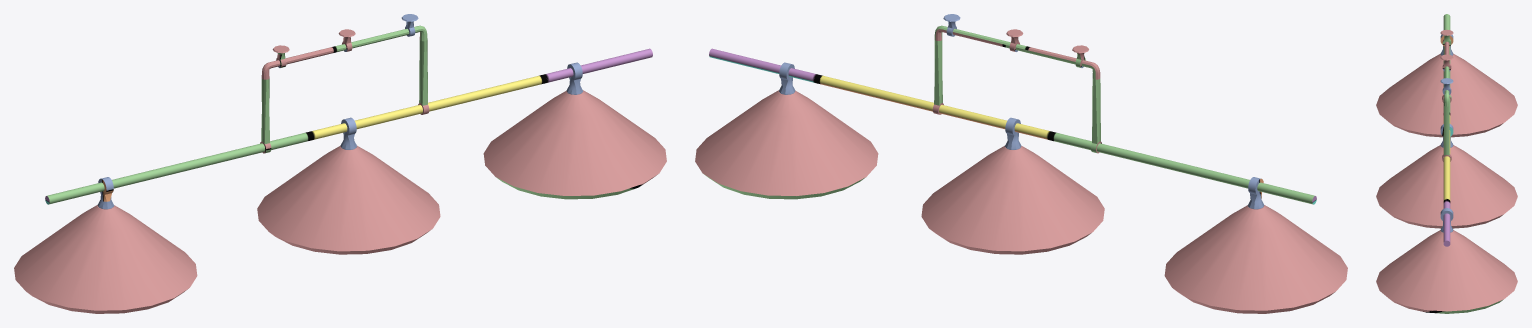
File: Pooltable_LightFitting.fbx
3 views of the same model, side by side, from view 1: azimuth 30°, elevation 25°; view 2: azimuth 150°, elevation 25°; view 3: azimuth 270°, elevation 25° (orthographic). The views are drawn at different scales.
Parts seen in each view (by area): view 1: LightFitting_Shade1, LightFitting_Shade, LightFitting_Shade2, LightFitting_Pipe, LightFitting_Pipe1; view 2: LightFitting_Shade1, LightFitting_Shade, LightFitting_Shade2, LightFitting_Pipe, LightFitting_Pipe1; view 3: LightFitting_Shade2, LightFitting_Shade1, LightFitting_Shade, LightFitting_Pipe, LightFitting_Pipe1, LightFitting_CeilingConnector2, LightFitting_CeilingConnector4, LightFitting_CeilingConnector6, LightFitting_CeilingConnector5, LightFitting_CeilingConnector7, LightFitting_CeilingConnector8.
Boxes of the visible parts, x1,y1,x2,y2 form: LightFitting_Shade1: (257, 145, 440, 254); LightFitting_Shade: (14, 205, 197, 313); LightFitting_Shade2: (483, 90, 666, 199); LightFitting_Pipe: (45, 48, 652, 204); LightFitting_Pipe1: (260, 25, 429, 153); LightFitting_Shade1: (921, 145, 1104, 254); LightFitting_Shade: (1164, 205, 1347, 313); LightFitting_Shade2: (695, 90, 878, 199); LightFitting_Pipe: (709, 48, 1316, 204); LightFitting_Pipe1: (932, 25, 1101, 153); LightFitting_Shade2: (1376, 230, 1517, 313); LightFitting_Shade1: (1376, 145, 1517, 228); LightFitting_Shade: (1376, 53, 1517, 137); LightFitting_Pipe: (1443, 14, 1450, 246); LightFitting_Pipe1: (1442, 41, 1451, 161); LightFitting_CeilingConnector2: (1440, 208, 1453, 232); LightFitting_CeilingConnector4: (1440, 29, 1453, 46); LightFitting_CeilingConnector6: (1440, 78, 1453, 94); LightFitting_CeilingConnector5: (1440, 54, 1453, 71); LightFitting_CeilingConnector7: (1440, 124, 1453, 147); LightFitting_CeilingConnector8: (1440, 34, 1453, 55).
Bounding box in the file's own units: 257 × 72.83 × 65.12.
Materials: 1 (1 with a texture image).
